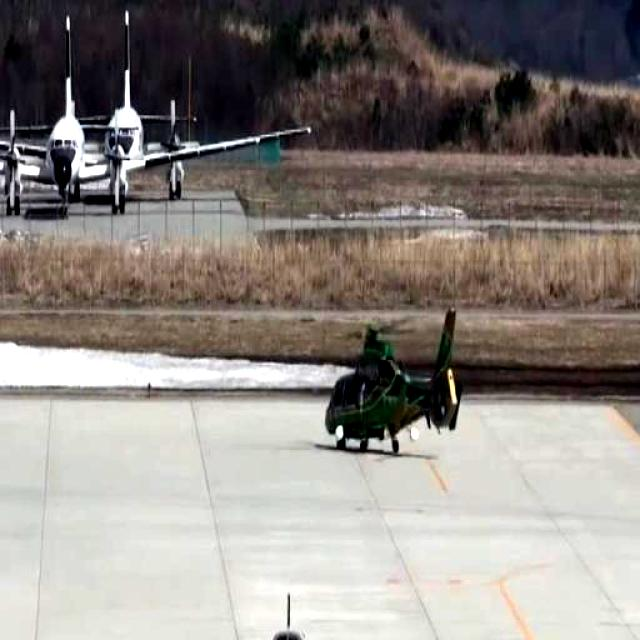drone: (298, 282, 486, 480)
